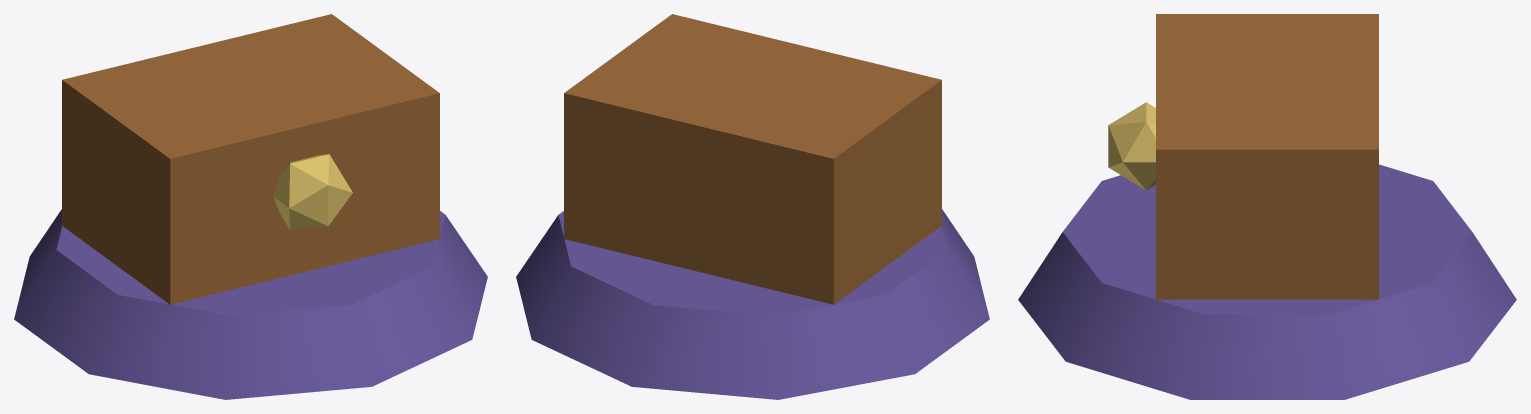
The model's file is treasure_cache.glb.
3 views of the same model, side by side, from view 1: azimuth 30°, elevation 25°; view 2: azimuth 150°, elevation 25°; view 3: azimuth 270°, elevation 25° (orthographic). The views are drawn at different scales.
Parts seen in each view (by area): view 1: treasure_box, treasure_base, treasure_lock; view 2: treasure_box, treasure_base; view 3: treasure_box, treasure_base, treasure_lock.
Part boxes in pixels (box(x1,y1,x2,y2)): treasure_box: box(62, 14, 439, 304); treasure_base: box(14, 209, 487, 399); treasure_lock: box(273, 154, 352, 230); treasure_box: box(564, 14, 941, 304); treasure_base: box(516, 209, 989, 399); treasure_box: box(1156, 14, 1378, 299); treasure_base: box(1018, 164, 1516, 399); treasure_lock: box(1108, 102, 1155, 190).
Size of what is drawn, in the model's own units: 2.66 by 1.35 by 2.8.
